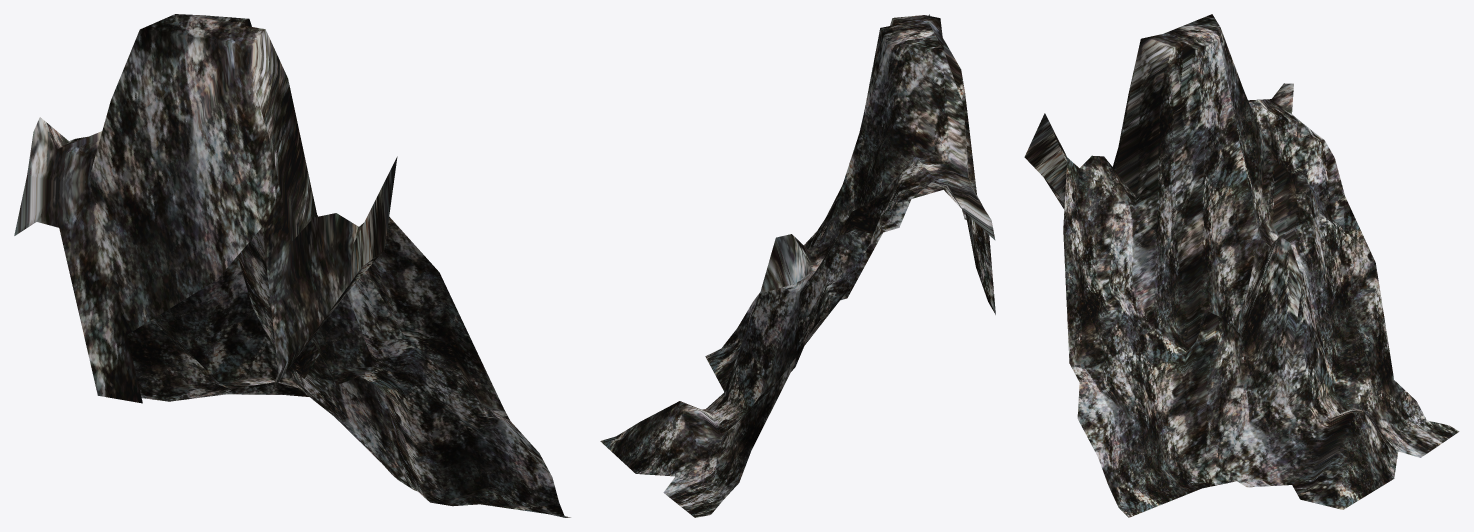
The model's file is OVERHILL_A_01_MOUN1_OBJECT146.fbx.
3 renders of one model, left to right at view 1: azimuth 30°, elevation 25°; view 2: azimuth 150°, elevation 25°; view 3: azimuth 270°, elevation 25°, orthographic. The views are drawn at different scales.
Visible parts, largest first — view 1: OVERHILL_A_01_MOUN1_OBJECT146; view 2: OVERHILL_A_01_MOUN1_OBJECT146; view 3: OVERHILL_A_01_MOUN1_OBJECT146.
Boxes of the visible parts, box(x1,y1,x2,y2) form: OVERHILL_A_01_MOUN1_OBJECT146: box(14, 14, 570, 517); OVERHILL_A_01_MOUN1_OBJECT146: box(600, 14, 995, 517); OVERHILL_A_01_MOUN1_OBJECT146: box(1024, 14, 1459, 517).
Size of the model in its own units: 313833 by 342959 by 358654.
1 material, 1 textured.
